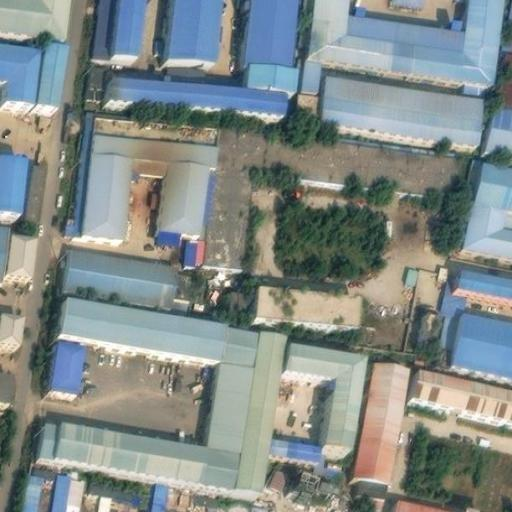building: (70, 105, 217, 261), (264, 126, 466, 194), (38, 415, 241, 482), (57, 294, 259, 361), (323, 69, 484, 130), (202, 120, 270, 261), (281, 333, 369, 441), (235, 324, 287, 486), (61, 241, 195, 302), (110, 65, 288, 107), (356, 355, 410, 491), (455, 152, 512, 253), (414, 364, 512, 413), (449, 308, 512, 374), (208, 356, 254, 445), (256, 278, 363, 316), (263, 463, 341, 508), (169, 0, 222, 57), (438, 263, 470, 342), (84, 471, 139, 512), (35, 34, 68, 100), (50, 331, 86, 388), (0, 220, 36, 276), (455, 265, 512, 295), (50, 466, 86, 512), (404, 306, 436, 354), (24, 155, 49, 215), (268, 429, 322, 456), (393, 489, 456, 512), (91, 0, 118, 53), (486, 101, 512, 150), (22, 464, 44, 512), (495, 44, 512, 104), (138, 478, 166, 512), (86, 61, 106, 97), (0, 313, 19, 348), (0, 370, 14, 404), (400, 262, 419, 287), (453, 501, 487, 512), (506, 31, 512, 45)
